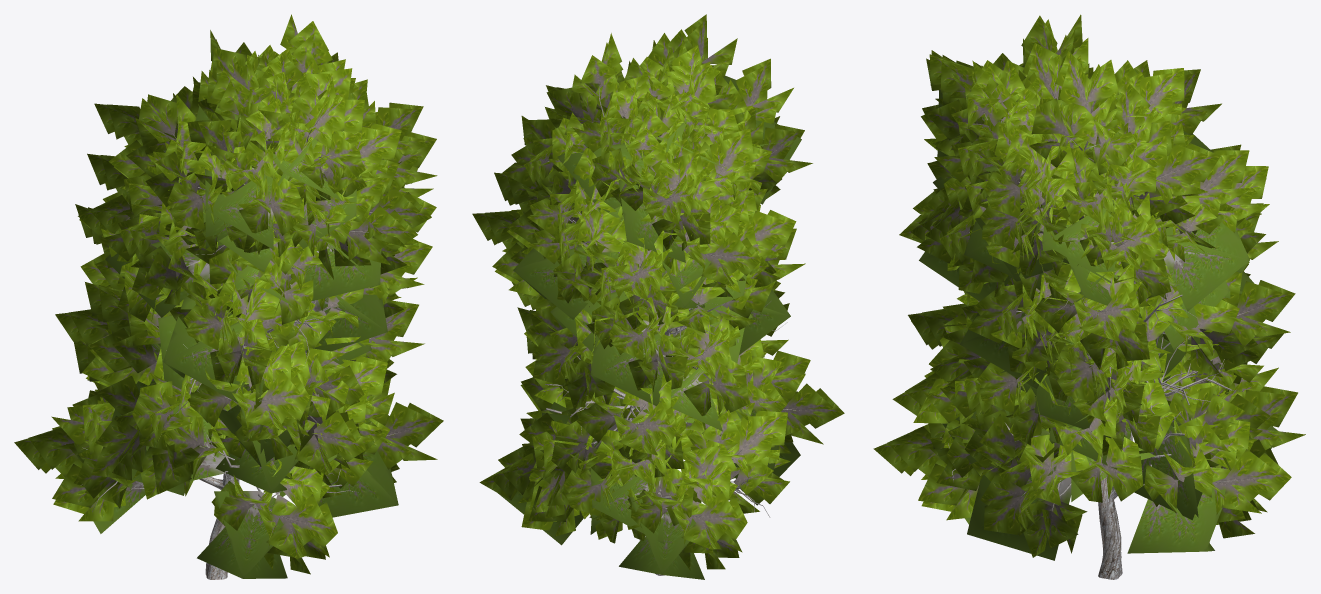
File: Tree2.obj
3 views of the same model, side by side, from view 1: azimuth 30°, elevation 25°; view 2: azimuth 150°, elevation 25°; view 3: azimuth 270°, elevation 25° (orthographic). The views are drawn at different scales.
Visible parts, largest first — view 1: beech branch, bark01, beech leaf; view 2: beech branch, bark01, beech leaf; view 3: beech branch, bark01, beech leaf.
Boxes of the visible parts, left/top/right/bottom form: beech branch: left=14, top=14, right=443, bottom=574; bark01: left=93, top=99, right=398, bottom=578; beech leaf: left=80, top=121, right=395, bottom=579; beech branch: left=472, top=14, right=844, bottom=570; bark01: left=498, top=75, right=801, bottom=579; beech leaf: left=545, top=55, right=799, bottom=575; beech branch: left=873, top=14, right=1305, bottom=557; bark01: left=919, top=90, right=1278, bottom=560; beech leaf: left=940, top=88, right=1248, bottom=579.
Bounding box in the file's own units: 63.93 × 95.9 × 67.03.
3 materials, 3 textured.
